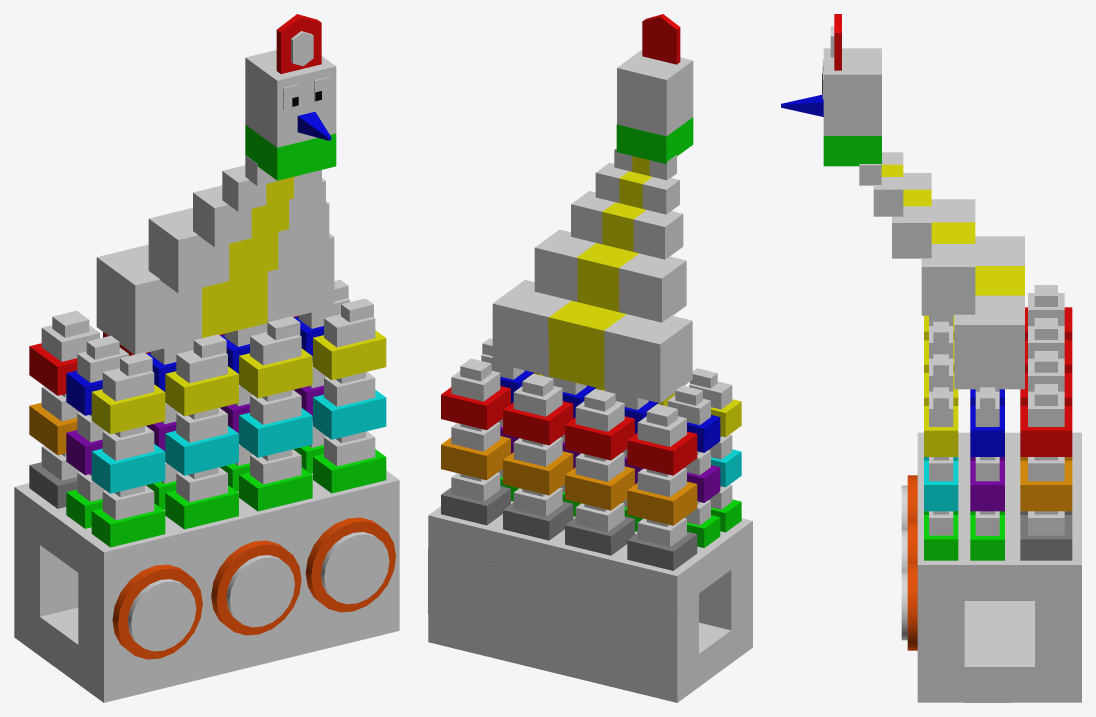
The picture shows the model from 3 angles, left to right: view 1: azimuth 30°, elevation 25°; view 2: azimuth 150°, elevation 25°; view 3: azimuth 270°, elevation 25°; orthographic projection. The views are drawn at different scales.
Parts seen in each view (by area): view 1: pCube3009, pCube3023, pCube3010, pCube971, pCylinder64, pCylinder89, pCylinder87, pCube1409, pCube3028, pCube3008, pCube975, pCube1349 (+71 smaller); view 2: pCube3009, pCube3023, pCube3028, pCube3008, pCube3010, pCube973, pCube1411, pCube3011, pCube1429, pCube3012, pCube1433, pCube1352 (+61 smaller); view 3: pCube3028, pCube3023, pCube3011, pCube1352, pCube1420, pCube1418, pCube1353, pCube1354, pCube3014, pCube1376, pCube1394, pCube1428 (+49 smaller).
Part boxes in pixels (x1=…): pCube3009: x1=96, y1=244, x2=202, y2=354; pCube3023: x1=245, y1=50, x2=336, y2=147; pCube3010: x1=148, y1=208, x2=229, y2=293; pCube971: x1=78, y1=525, x2=178, y2=591; pCylinder64: x1=226, y1=555, x2=294, y2=627; pCylinder89: x1=321, y1=532, x2=389, y2=604; pCylinder87: x1=127, y1=579, x2=196, y2=651; pCube1409: x1=78, y1=645, x2=178, y2=702; pCube3028: x1=267, y1=233, x2=334, y2=321; pCube3008: x1=202, y1=271, x2=267, y2=337; pCube975: x1=165, y1=507, x2=252, y2=571; pCube1349: x1=239, y1=489, x2=325, y2=547; pCube3009: x1=604, y1=314, x2=692, y2=403; pCube3023: x1=617, y1=49, x2=693, y2=136; pCube3028: x1=492, y1=280, x2=570, y2=375; pCube3008: x1=548, y1=300, x2=626, y2=389; pCube3010: x1=619, y1=253, x2=686, y2=322; pCube973: x1=615, y1=549, x2=709, y2=608; pCube1411: x1=615, y1=643, x2=709, y2=702; pCube3011: x1=534, y1=229, x2=595, y2=301; pCube1429: x1=615, y1=594, x2=698, y2=641; pCube3012: x1=576, y1=243, x2=638, y2=311; pCube1433: x1=615, y1=626, x2=698, y2=674; pCube1352: x1=428, y1=506, x2=502, y2=563; pCube3028: x1=954, y1=295, x2=1024, y2=389; pCube3023: x1=823, y1=48, x2=881, y2=135; pCube3011: x1=921, y1=244, x2=975, y2=315; pCube1352: x1=1011, y1=532, x2=1081, y2=600; pCube1420: x1=964, y1=634, x2=1010, y2=702; pCube1418: x1=1011, y1=634, x2=1081, y2=702; pCube1353: x1=917, y1=531, x2=963, y2=600; pCube1354: x1=964, y1=531, x2=1010, y2=600; pCube3014: x1=892, y1=206, x2=931, y2=258; pCube1376: x1=1020, y1=460, x2=1072, y2=511; pCube1394: x1=1020, y1=406, x2=1072, y2=456; pCube1428: x1=917, y1=636, x2=964, y2=672.
Size of the model in its own units: 11.67 by 25.72 by 11.23.
